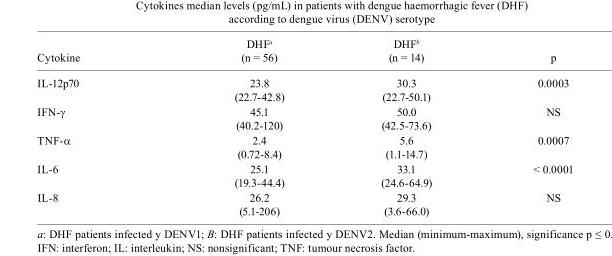table: (36, 36, 572, 216)
table column: (156, 36, 331, 216), (331, 36, 481, 216), (36, 36, 156, 216), (481, 36, 572, 216)
table column header: (36, 36, 572, 69)
table row: (36, 36, 572, 69), (36, 69, 572, 102), (36, 102, 572, 131), (36, 131, 572, 160), (36, 160, 572, 189), (36, 189, 572, 216)
